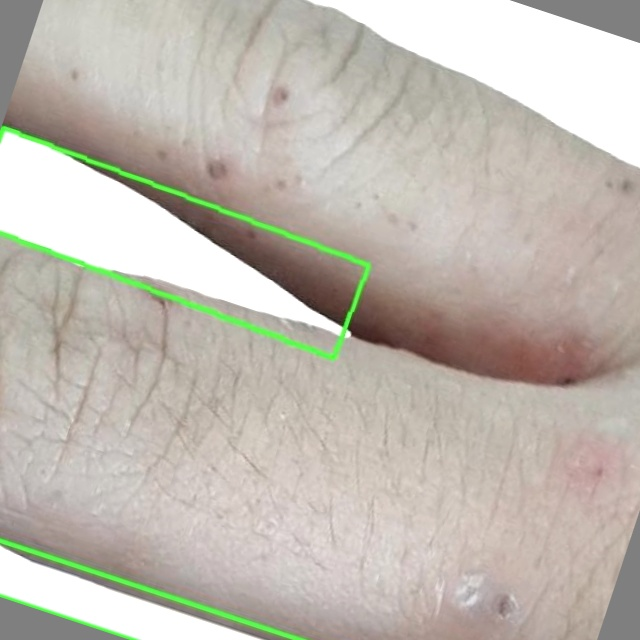Scabies: (0, 128, 367, 358)
